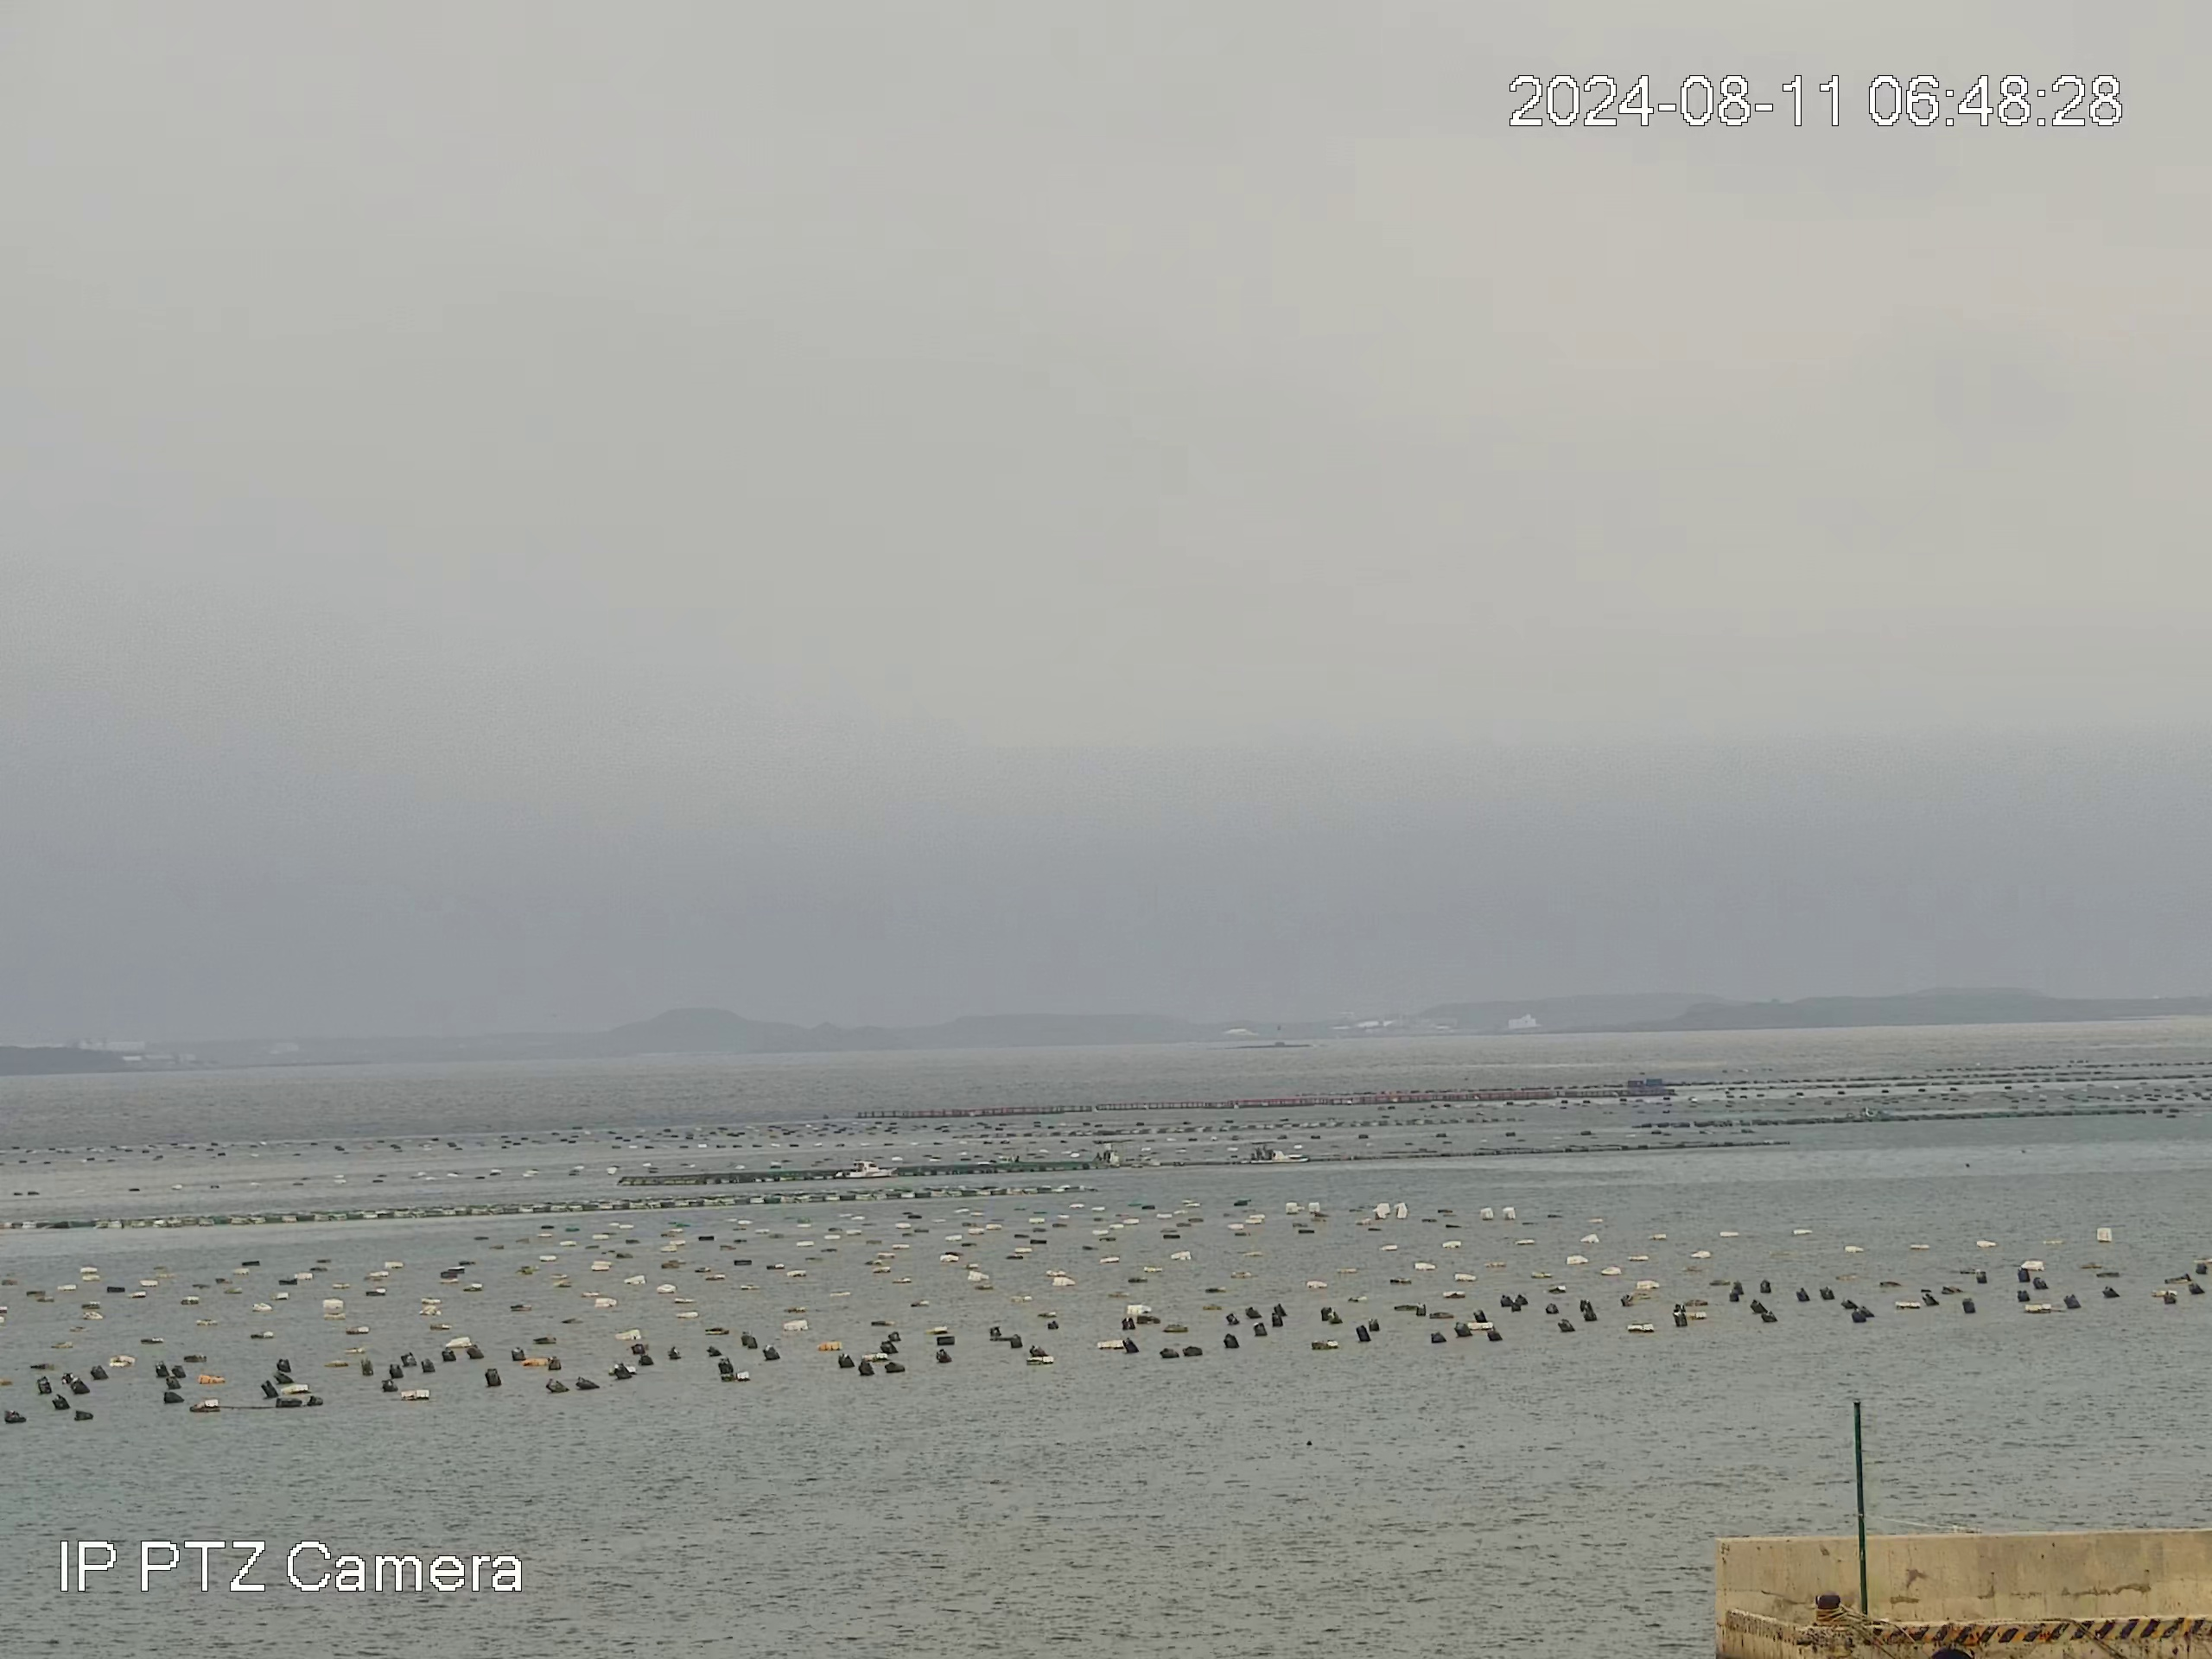boat: (1242, 1140, 1294, 1166), (833, 1159, 888, 1180)
